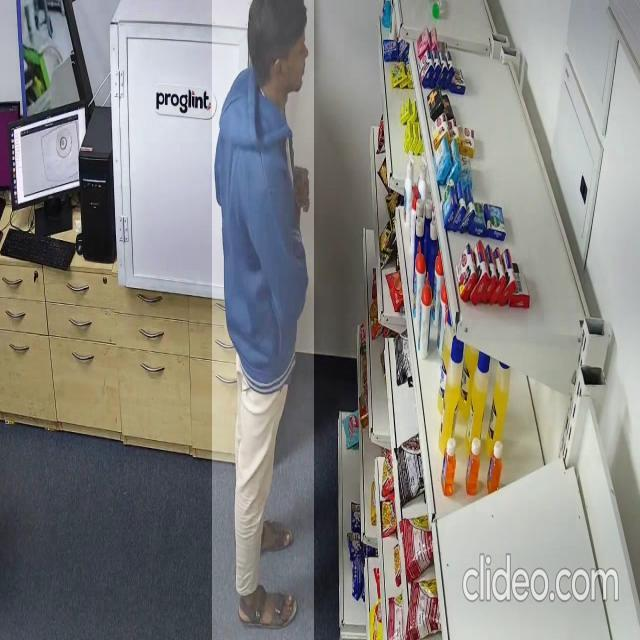Shoplifting: (212, 0, 314, 640)
